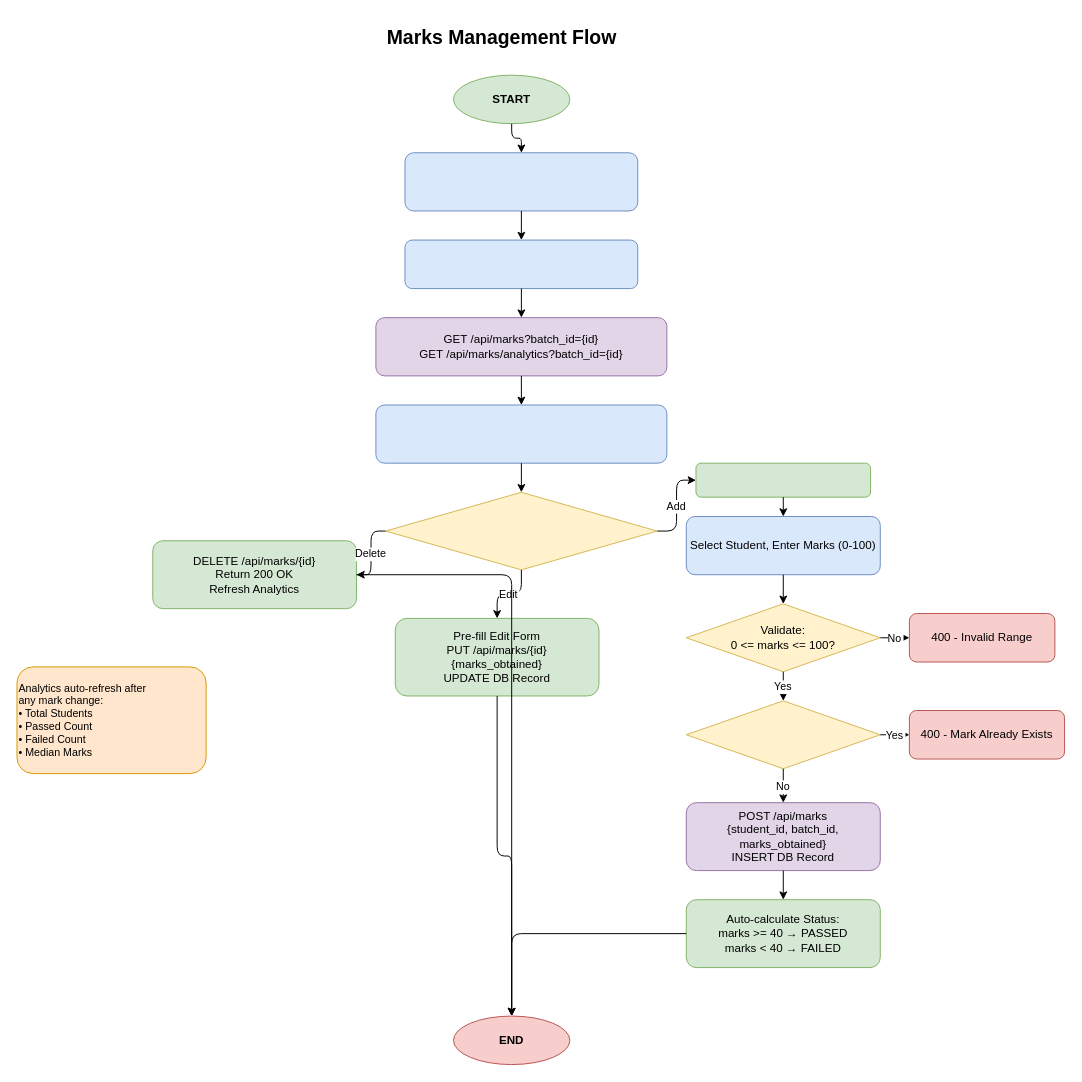
Image size: 1082x1082. Some labels were removed from this diagram. The centre of each missing label's shape, as x and y in pixels:
"ADD MARK" belongs at (x=783, y=479).
"Display Marks Table + Analytics: Pass/Fail Count, Median Score" belongs at (x=521, y=433).
"Mark Already Exists for Student + Batch?" belongs at (x=782, y=734).
"Navigate to Marks Page (Protected Route)" belongs at (x=521, y=181).
"Select Batch to View Marks" belongs at (x=521, y=264).
"User Chooses Action" belongs at (x=521, y=530).
